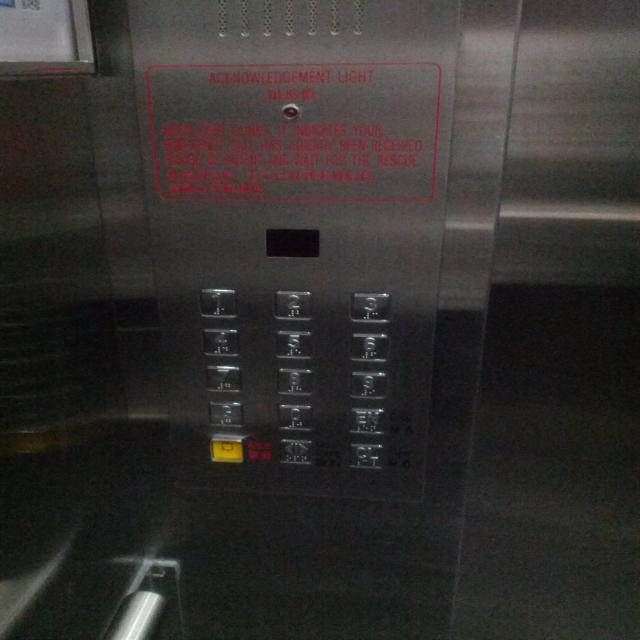0: (276, 402, 315, 432)
1: (198, 286, 240, 320)
2: (272, 287, 314, 321)
3: (349, 291, 392, 324)
4: (200, 327, 241, 358)
5: (273, 328, 316, 361)
6: (348, 331, 392, 363)
7: (202, 362, 244, 393)
8: (275, 366, 315, 396)
9: (349, 369, 388, 400)
CL: (346, 441, 385, 470)
EN: (348, 405, 387, 434)
G: (206, 399, 245, 428)
alarm: (208, 434, 246, 464)
open: (277, 437, 316, 466)
